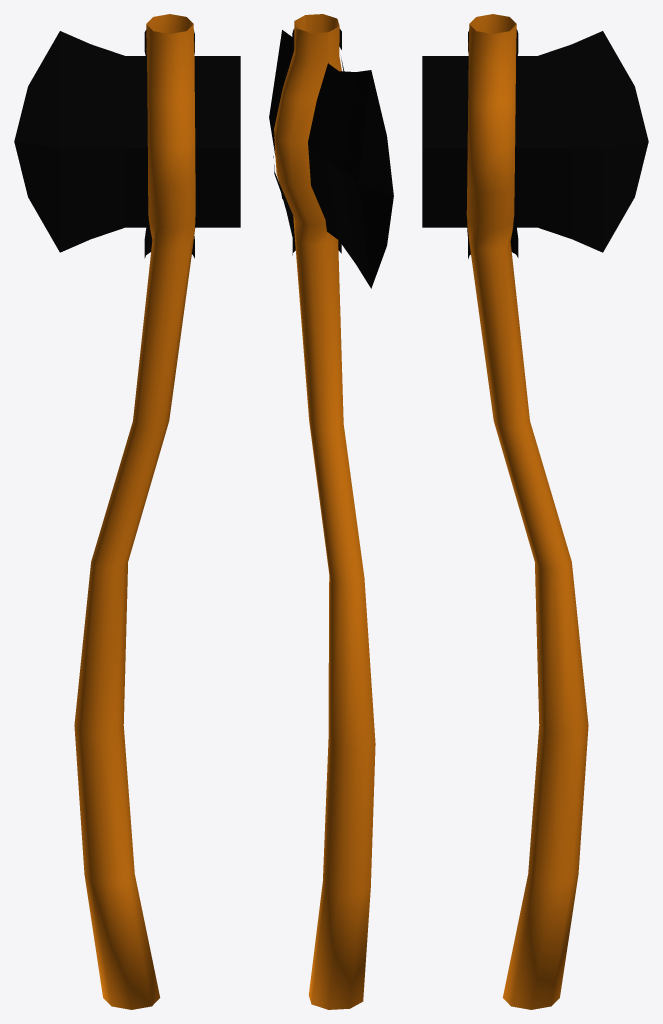
Rendered from axe.fbx.
The picture shows the model from 3 angles, left to right: view 1: azimuth 90°, elevation 25°; view 2: azimuth 210°, elevation 25°; view 3: azimuth 270°, elevation 25°; orthographic projection.
Visible parts, largest first — view 1: 円柱; view 2: 円柱; view 3: 円柱.
Boxes of the visible parts, box(x1,y1,x2,y2) form: 円柱: box(14, 14, 240, 1009); 円柱: box(269, 14, 393, 1009); 円柱: box(422, 14, 648, 1009).
Size of the model in its own units: 87.2 by 1031 by 217.
